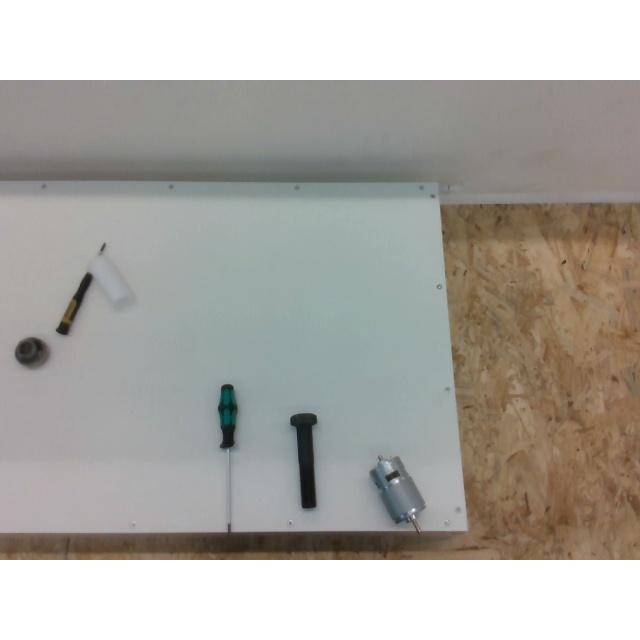Bearing2: (15, 337, 50, 368)
M20_100: (290, 412, 318, 508)
Motor2: (370, 456, 426, 532)
Screwdriver: (218, 384, 238, 532)
Spacer: (88, 253, 136, 309)
